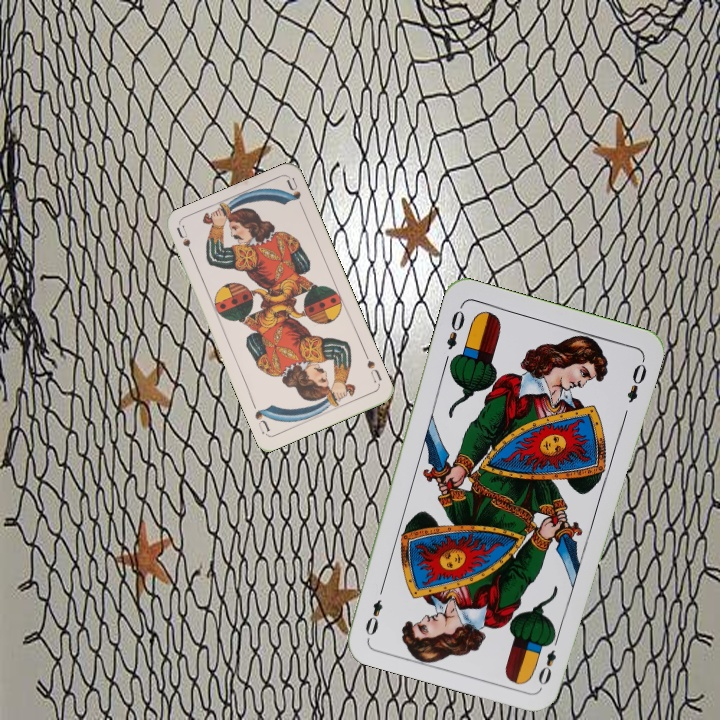EO: (534, 631, 562, 688), (442, 302, 468, 353)
SU: (173, 222, 197, 262), (361, 349, 384, 386)
